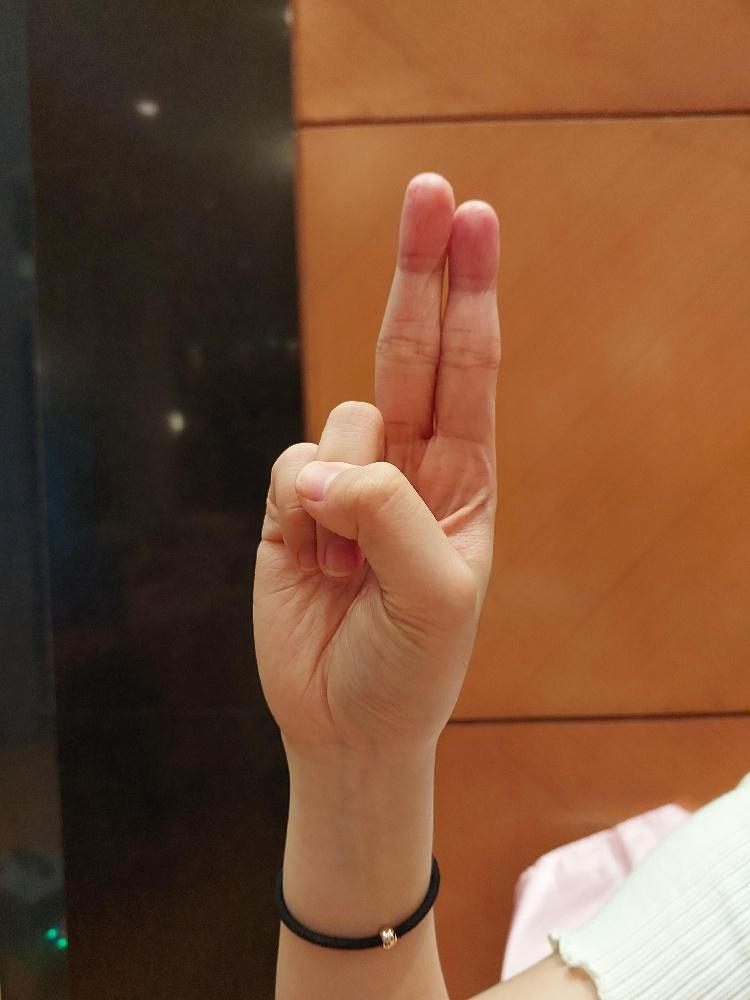u: (246, 168, 504, 744)
